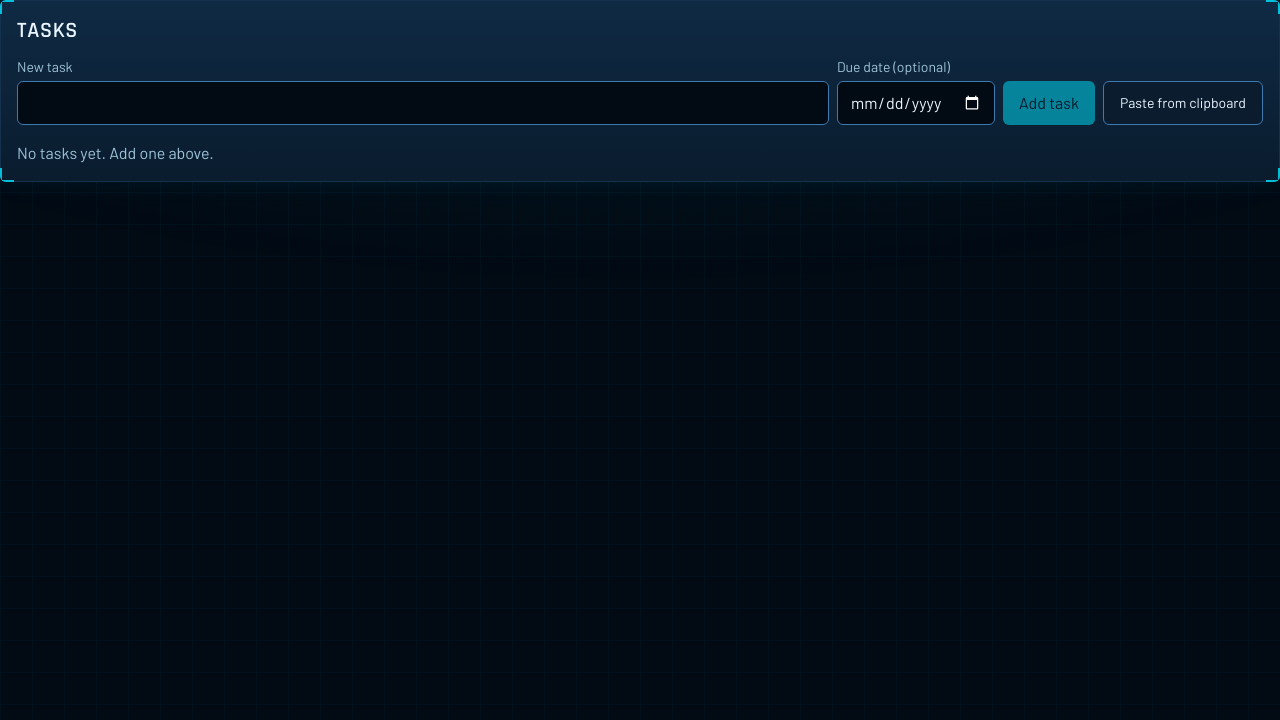
Test case: task board (M2-8a) › paste from clipboard appends to the new-task title
Step 1. Click the button "Paste from clipboard" → (1183, 103), box [1103,81,1263,125]
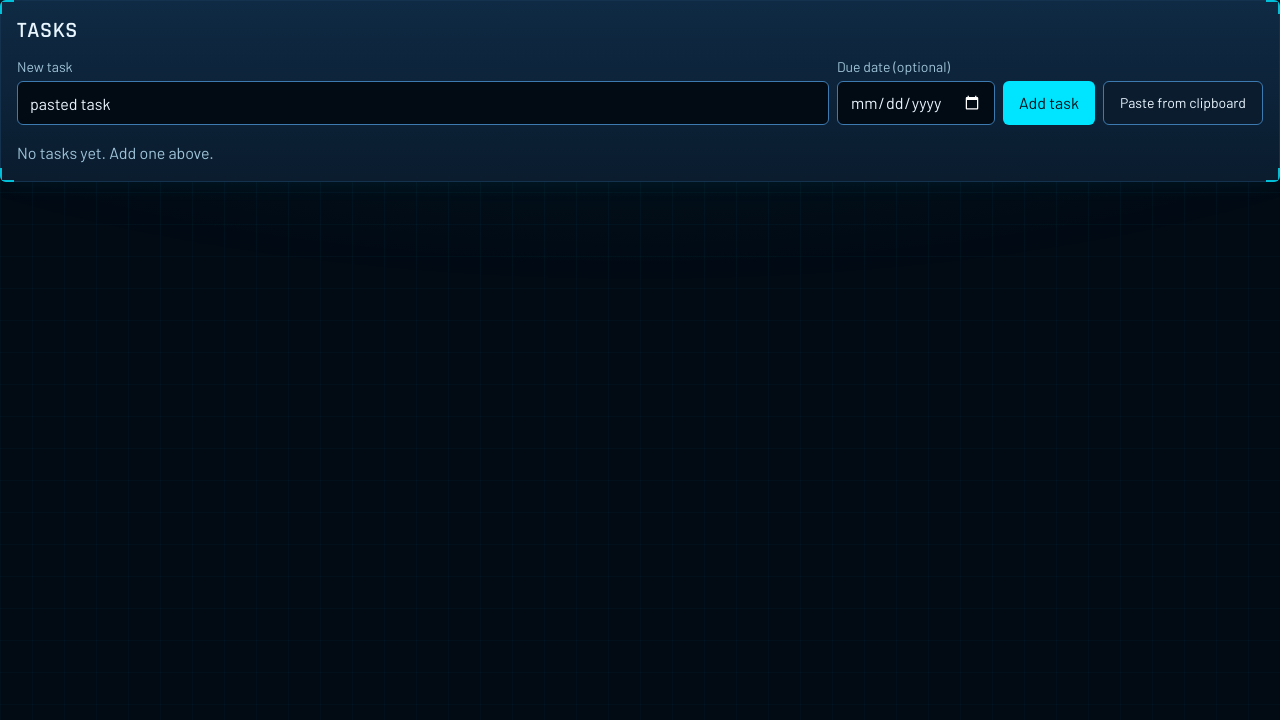
Now the field labelled "New task" holds "pasted task", box [17,81,829,125]
